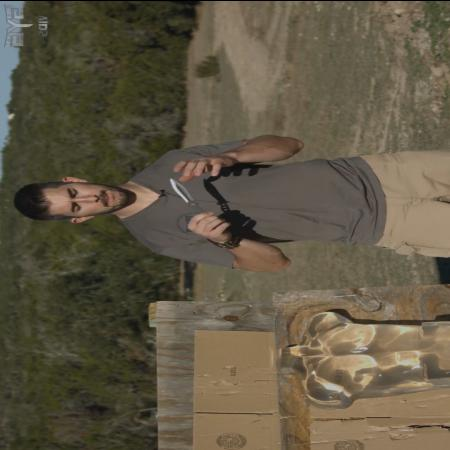long weapon: (164, 174, 234, 233)
